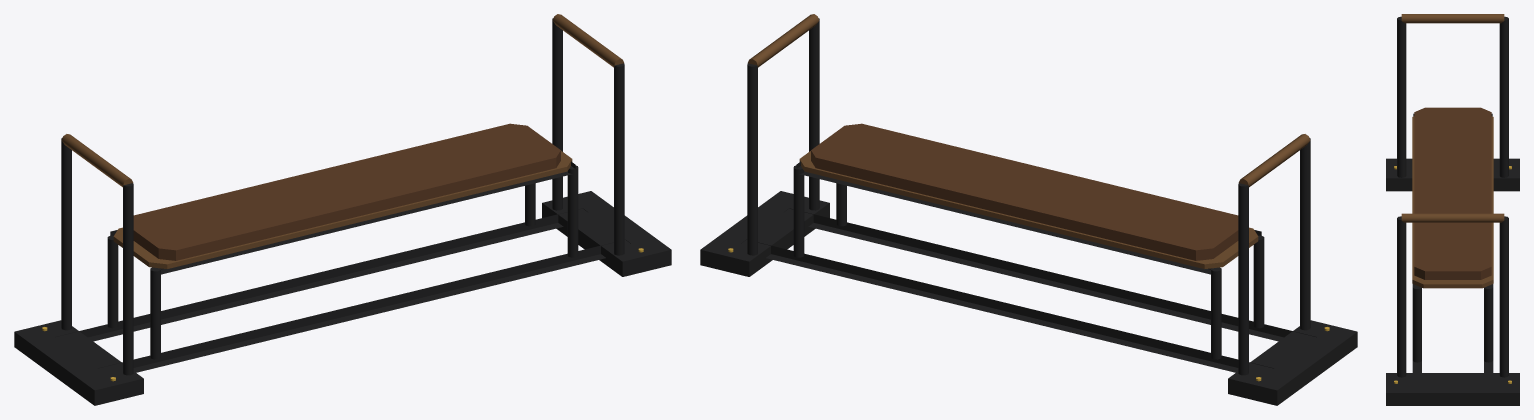
3 renders of one model, left to right at view 1: azimuth 30°, elevation 25°; view 2: azimuth 150°, elevation 25°; view 3: azimuth 270°, elevation 25°, orthographic. The views are drawn at different scales.
Parts seen in each view (by area): view 1: parametric-variant-machine-1st-pub-77f48a425a96aa4877ef; view 2: parametric-variant-machine-1st-pub-77f48a425a96aa4877ef; view 3: parametric-variant-machine-1st-pub-77f48a425a96aa4877ef.
Boxes of the visible parts, x1,y1,x2,y2 form: parametric-variant-machine-1st-pub-77f48a425a96aa4877ef: (14,14,671,405); parametric-variant-machine-1st-pub-77f48a425a96aa4877ef: (700,14,1357,405); parametric-variant-machine-1st-pub-77f48a425a96aa4877ef: (1386,14,1519,405).
Bounding box in the file's own units: 2.73 × 0.947 × 0.658.
